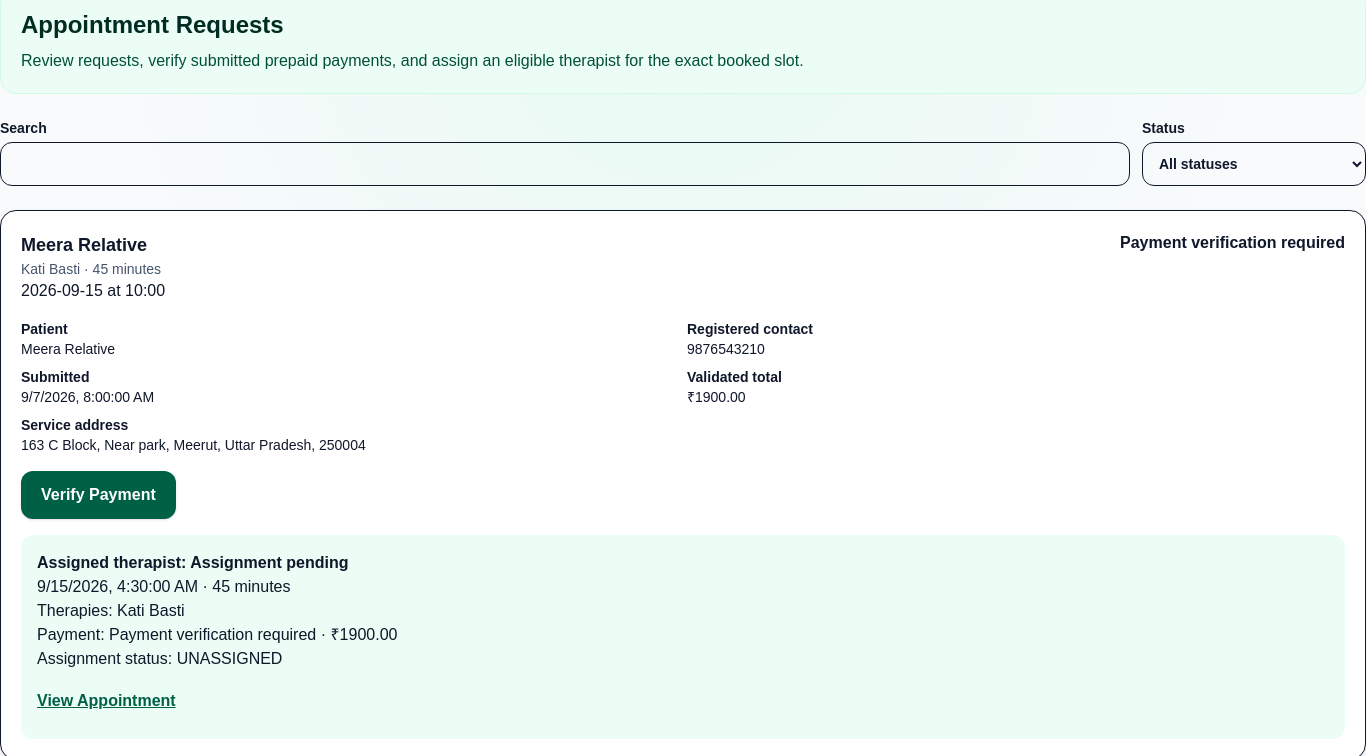
Test case: verifies a submitted payment before exposing therapist assignment
Expected: the text "Payment verification required" is shown, [1120,234,1345,251]
Expected: the button "Assign Therapist" is not shown
Click the button "Verify Payment" at (98, 495), box [21,471,176,519]
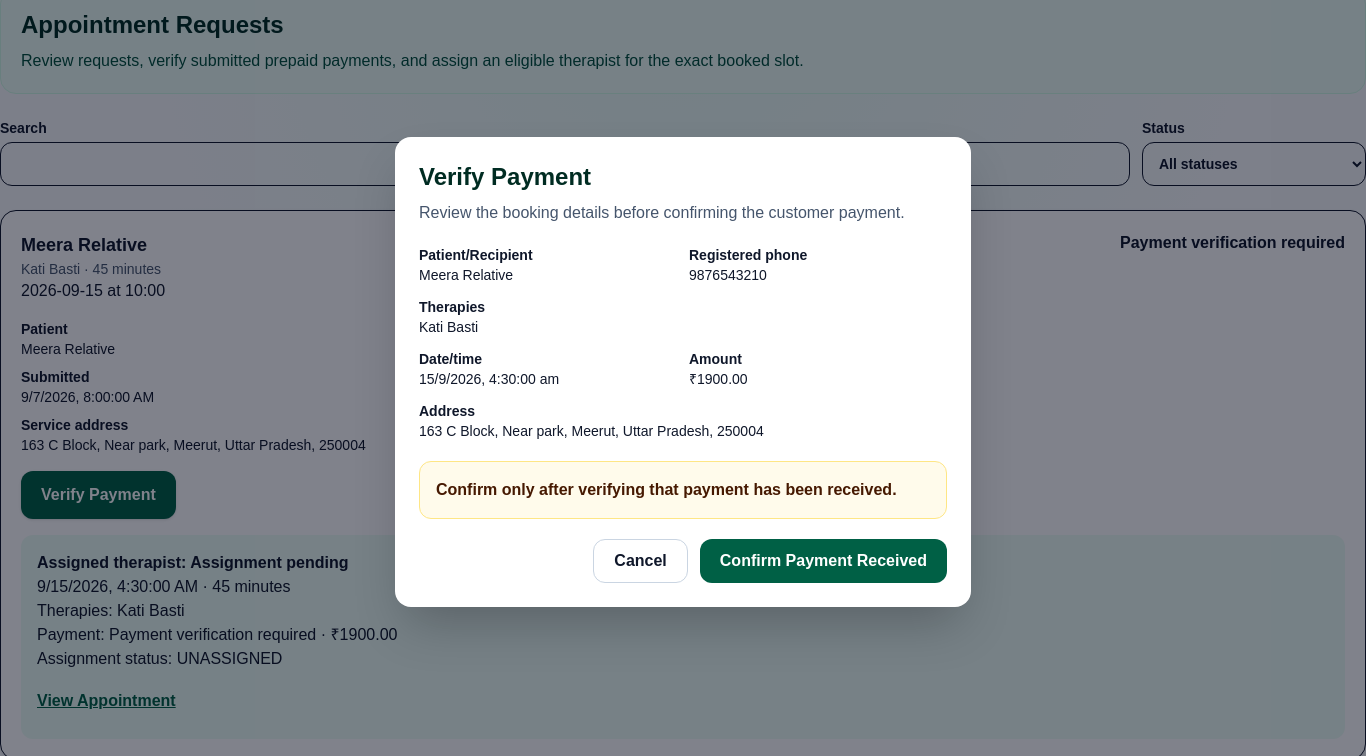
Result: the dialog "Verify Payment" shows "Meera Relative" at [419,267,513,283]
Result: the dialog "Verify Payment" shows "9876543210" at [689,267,767,283]
Result: the dialog "Verify Payment" shows "Kati Basti" at [419,319,478,335]
Click the button "Confirm Payment Received" at (823, 561), box [700,539,947,583]
(page scrolled)
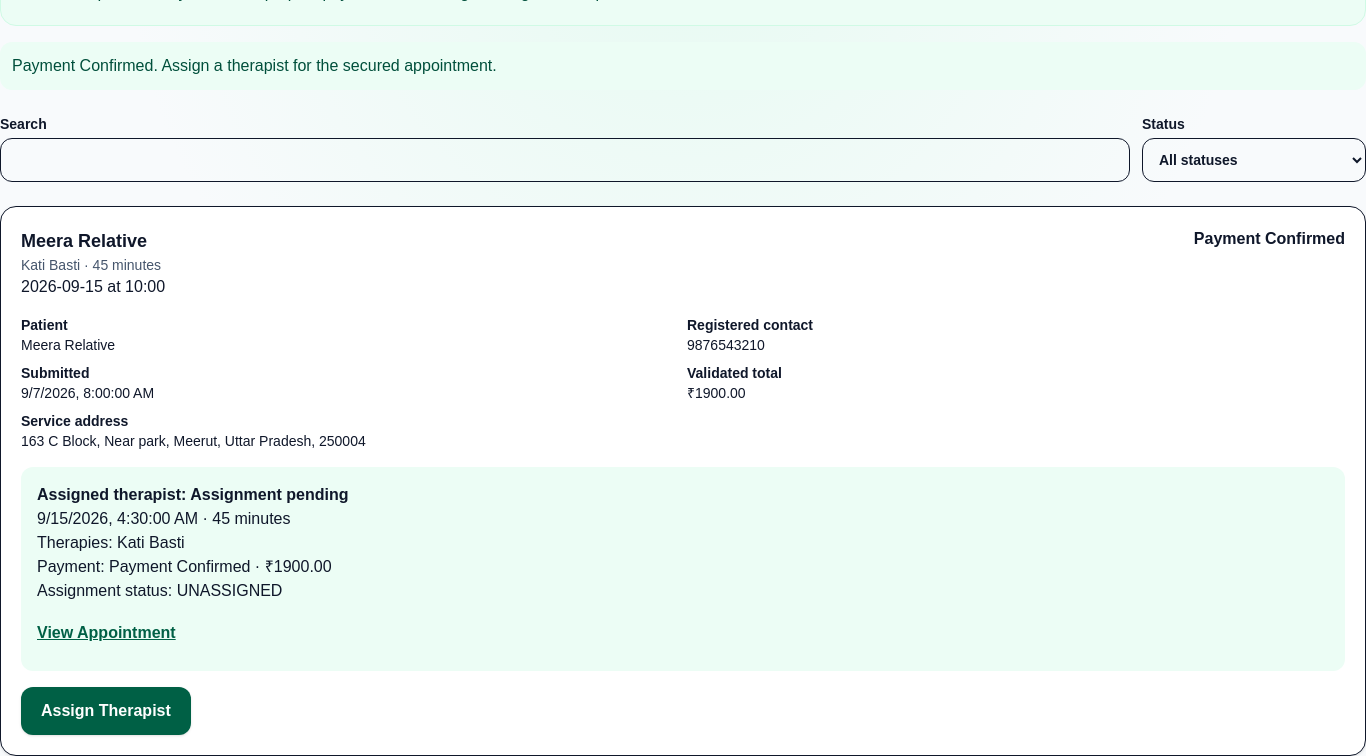
Result: the text "Payment Confirmed" is shown at [1194,230,1345,247]
Result: the button "Assign Therapist" is shown
Click the button "Assign Therapist" at (106, 711), box [21,687,191,735]
(page scrolled)
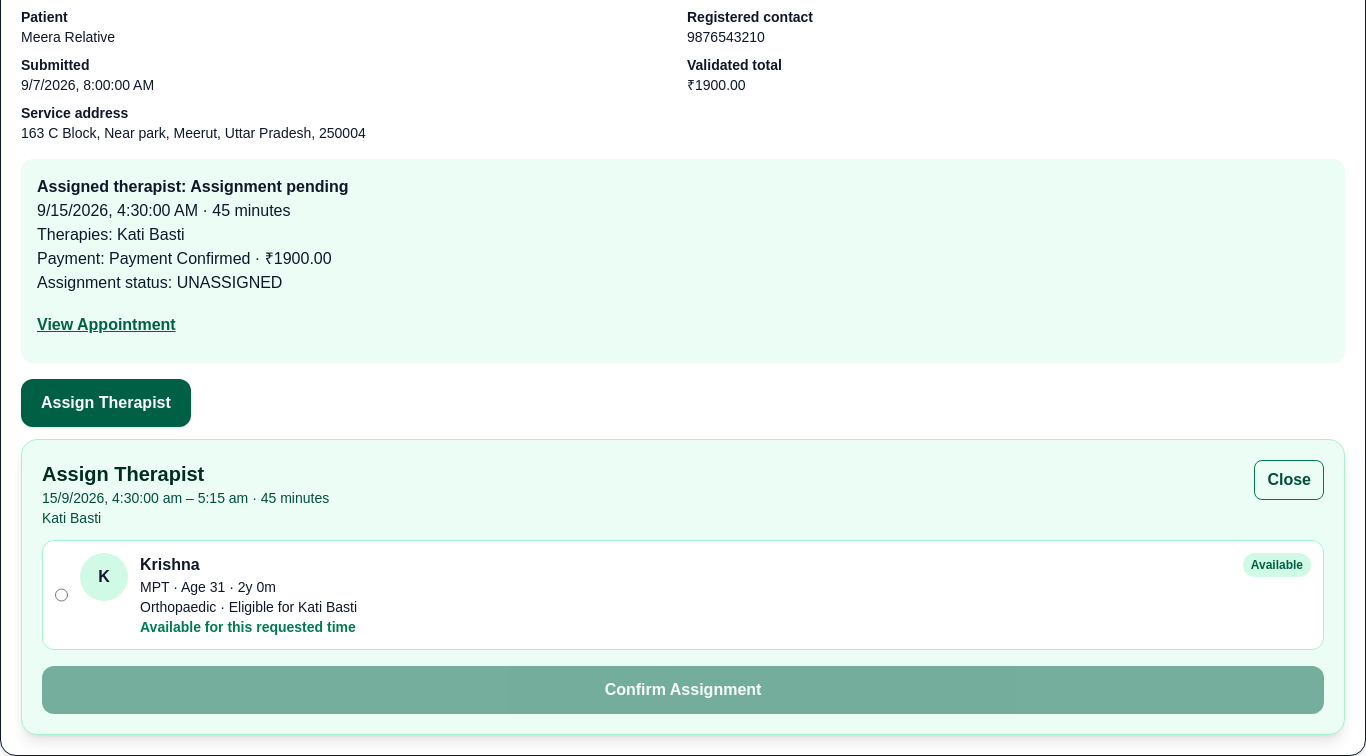
Click the radio button at (62, 595), box [55,553,68,637]
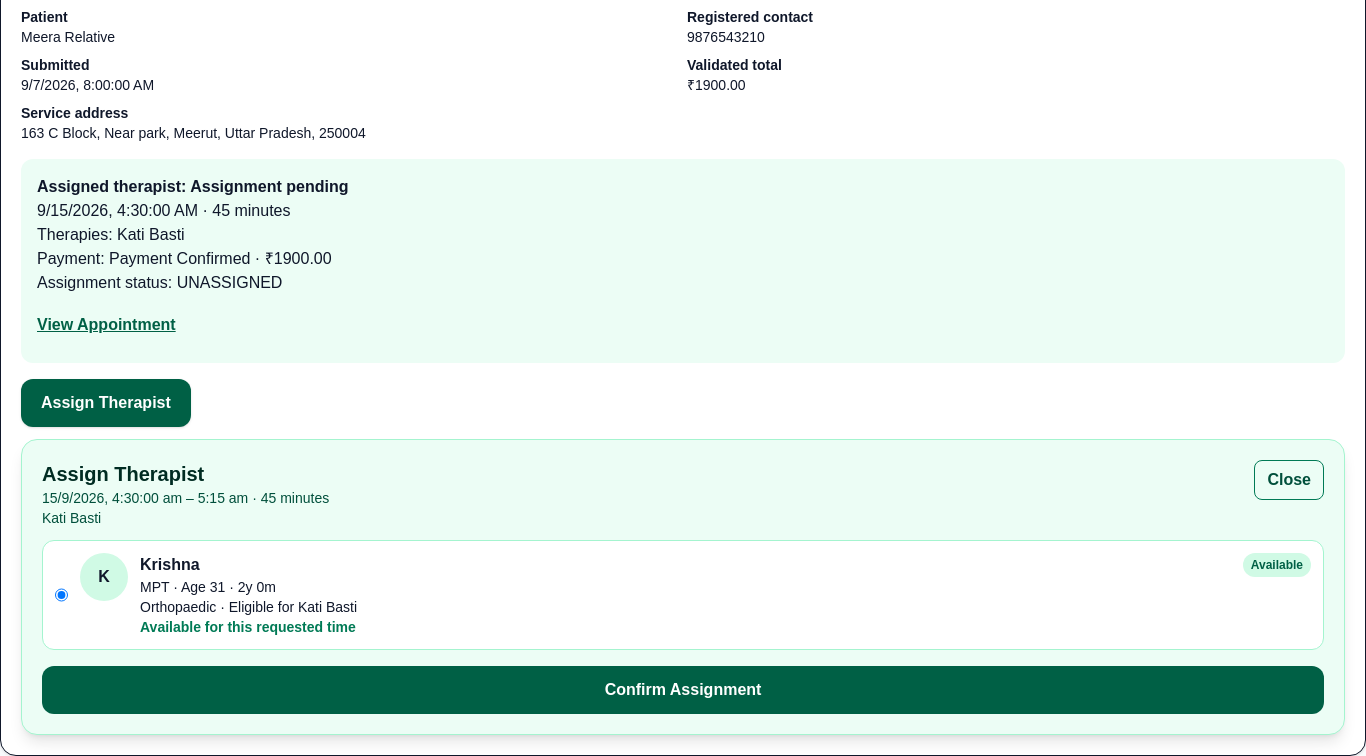
Click the button "Confirm Assignment" at (683, 690), box [42,666,1324,714]
(page scrolled)
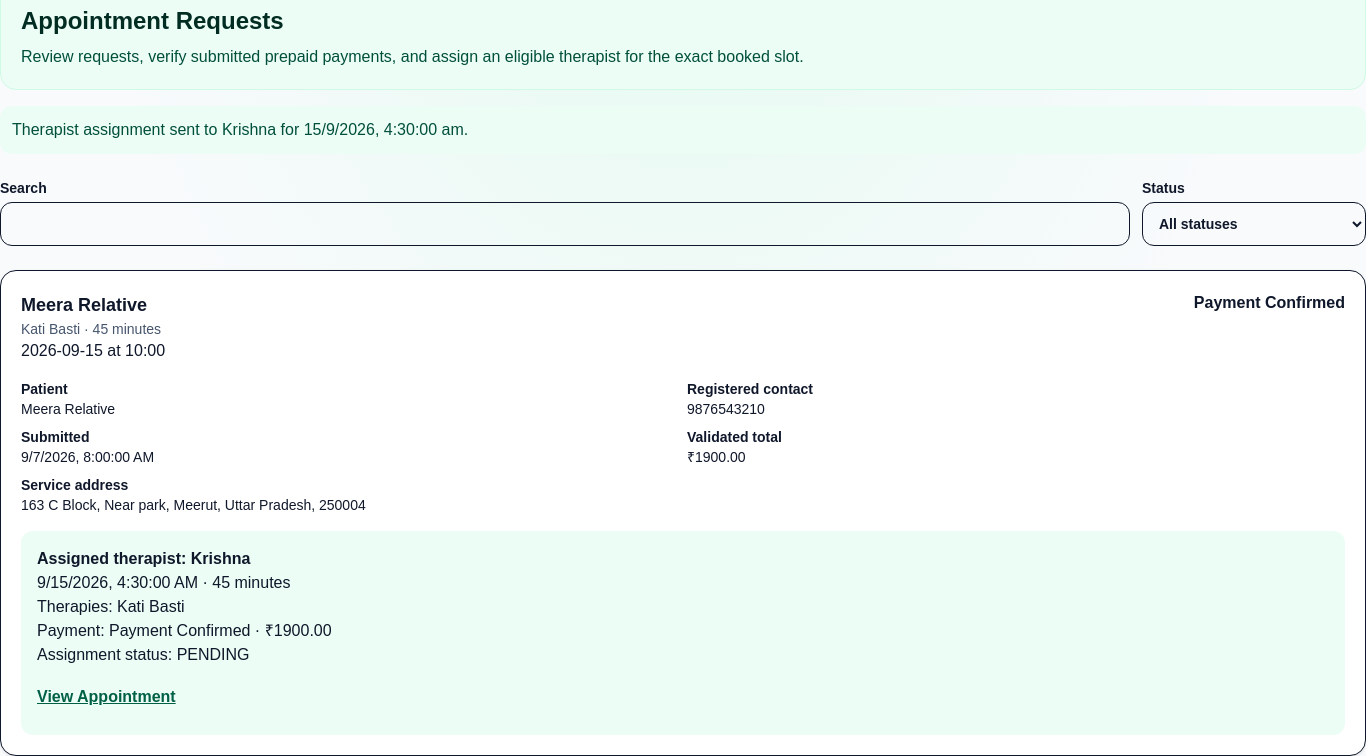
Result: the text "Therapist assignment sent to Krishna for 15/9/2026, 4:30:00 am." is shown at [0,106,1365,154]
